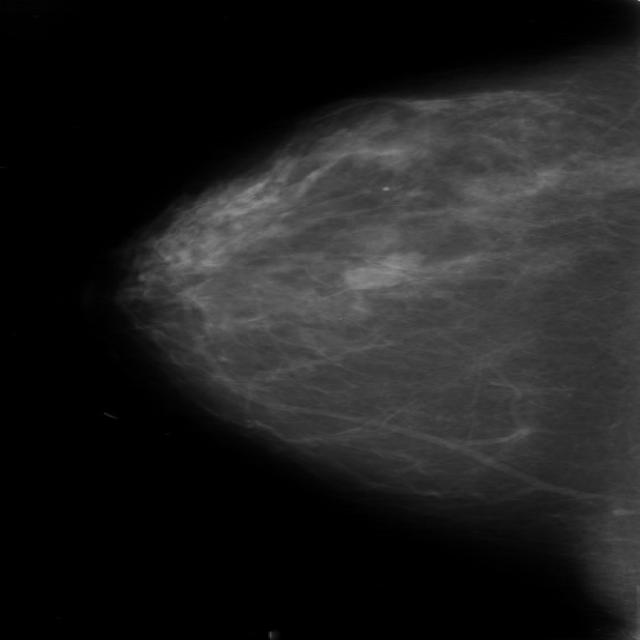tumour: (342, 249, 422, 287)
